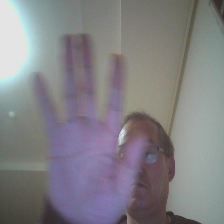hand: (30, 33, 145, 221)
